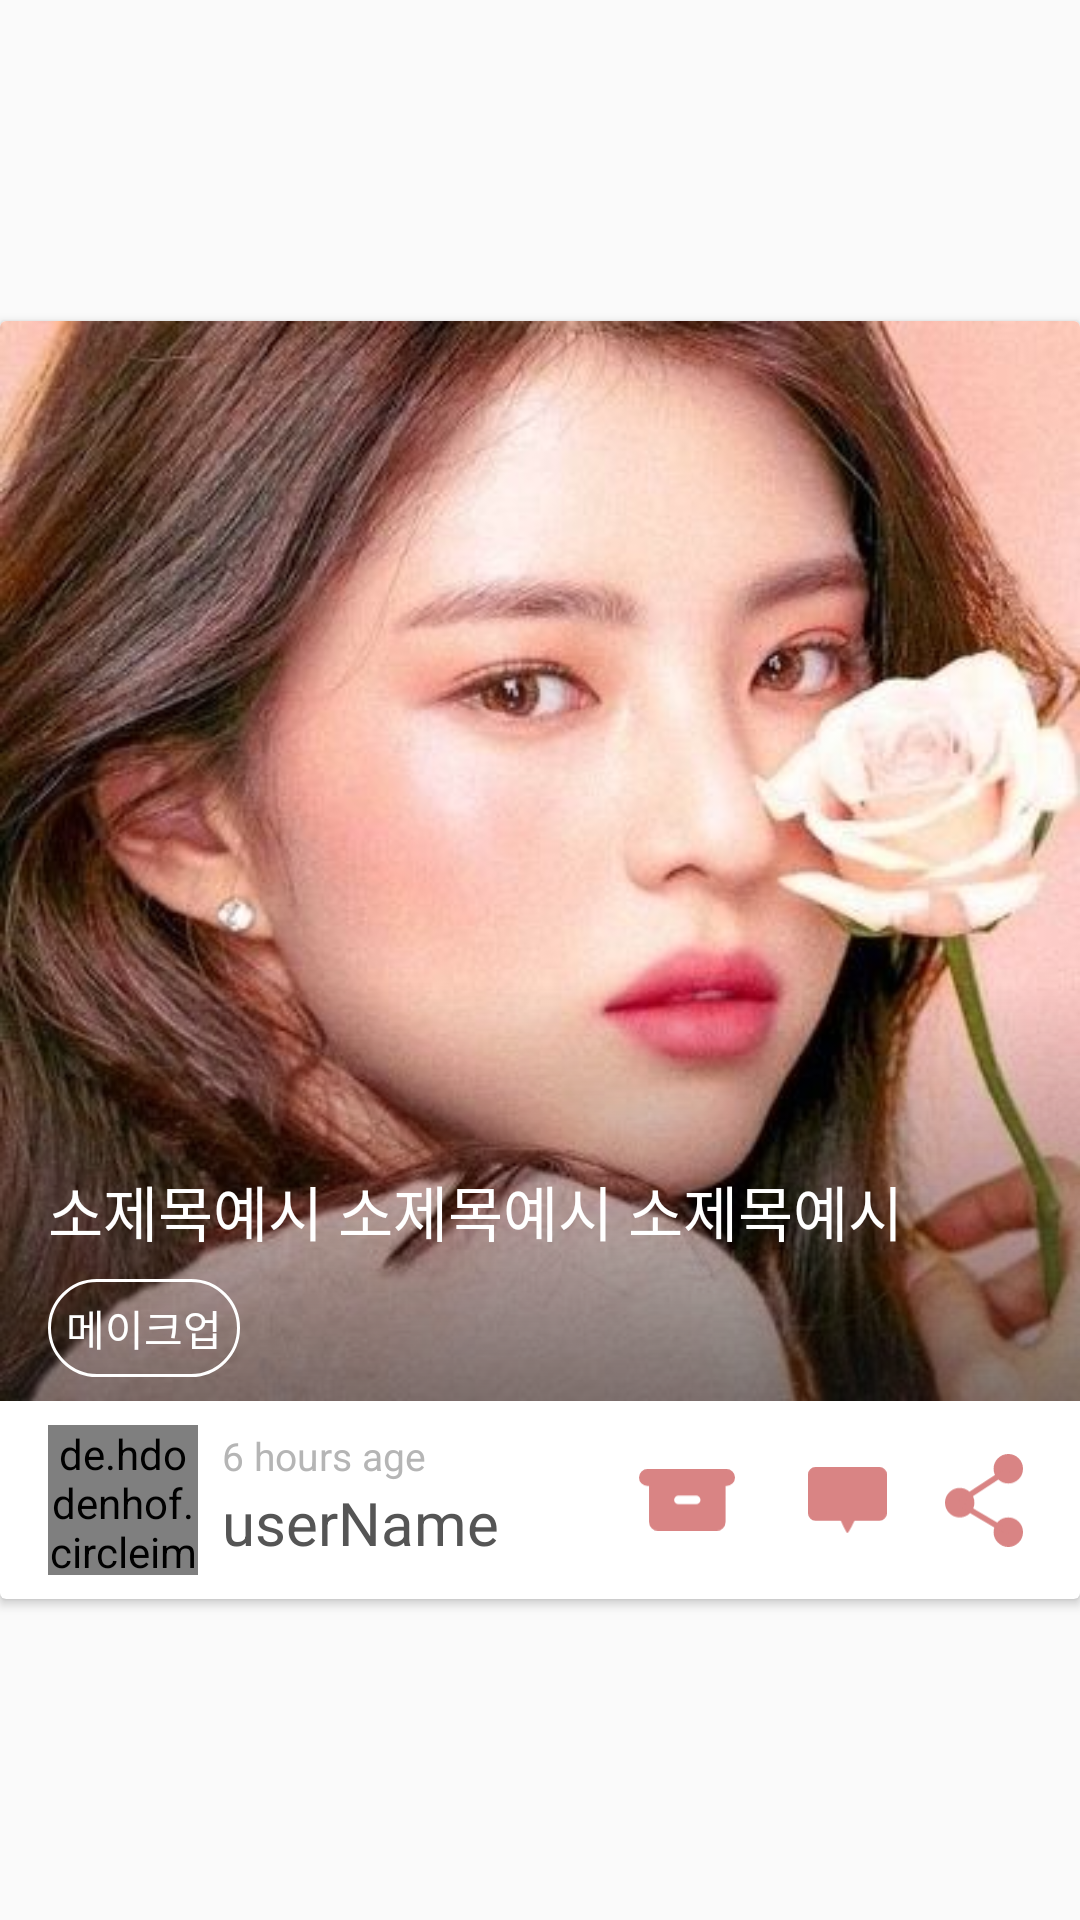

Point at icon controls on the screen. Image size 1080 x 1920, points as (x=x, y=y).
comment: (x=847, y=1500)
share: (x=984, y=1500)
storage: (x=687, y=1500)
